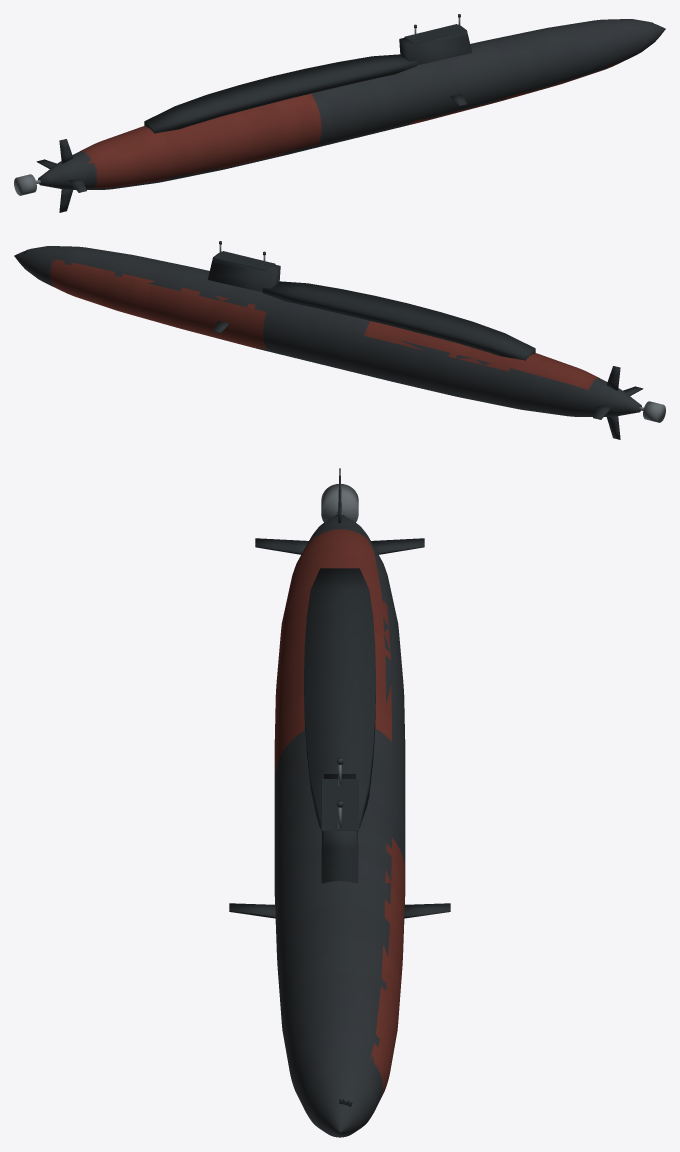
Rendered from FR_SSBN_LeTriomphant_LOD1.fbx.
The picture shows the model from 3 angles, top to bottom: view 1: azimuth 30°, elevation 25°; view 2: azimuth 150°, elevation 25°; view 3: azimuth 270°, elevation 25°; orthographic projection. The views are drawn at different scales.
Parts seen in each view (by area): view 1: FR_SSBN_LeTriomphant_LOD1; view 2: FR_SSBN_LeTriomphant_LOD1; view 3: FR_SSBN_LeTriomphant_LOD1.
Part boxes in pixels (<box>): FR_SSBN_LeTriomphant_LOD1: <box>14,14,665,212</box>; FR_SSBN_LeTriomphant_LOD1: <box>14,241,665,439</box>; FR_SSBN_LeTriomphant_LOD1: <box>229,468,450,1137</box>.
Size of the model in its own units: 143 by 21.11 by 21.2.
Materials: 6 (1 with a texture image).
